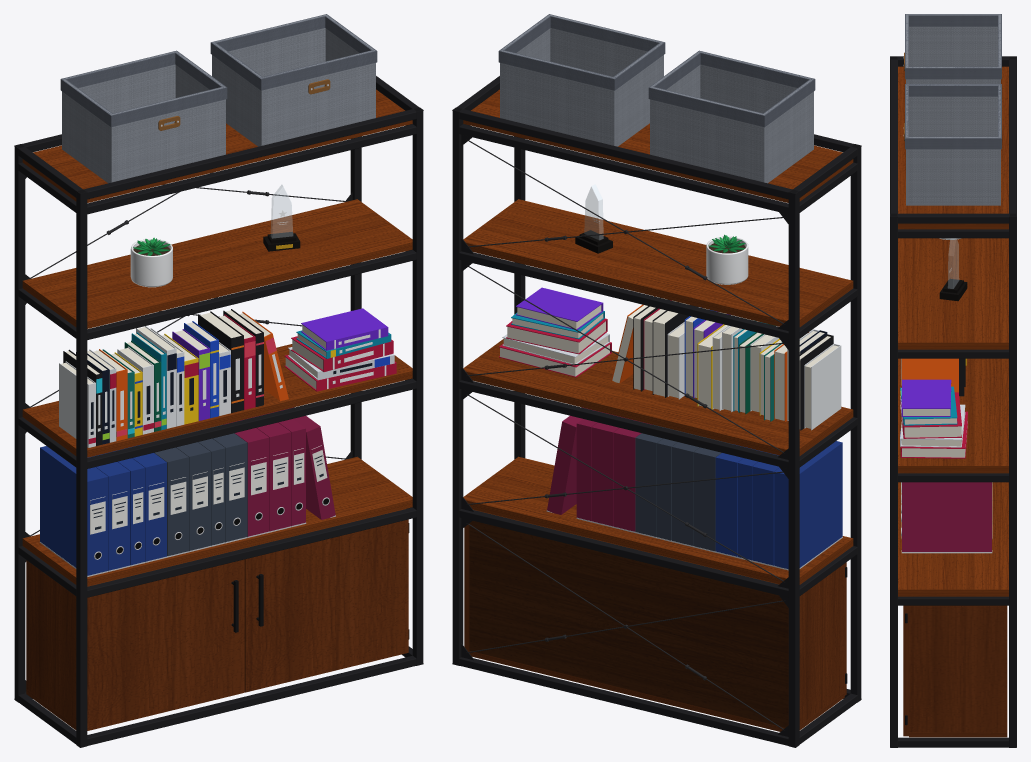
The model's file is Office_Bookshelf_Cabinet.glb.
The picture shows the model from 3 angles, left to right: view 1: azimuth 30°, elevation 25°; view 2: azimuth 150°, elevation 25°; view 3: azimuth 270°, elevation 25°; orthographic projection. The views are drawn at different scales.
Parts seen in each view (by area): view 1: Cover (×12), Door_R_Panel, Door_L_Panel, Shelf_3_Plank, Basket_Wall_Front (×2), Shelf_1_Plank, Post_FL, Cabinet_Side_L, Post_FR, Post_BL, Basket_Wall_Back (×2), Shelf_2_Plank (+23 smaller); view 2: Cabinet_Back, Cover (×12), Shelf_3_Plank, Basket_Wall_Back (×2), Shelf_2_Plank, Shelf_1_Plank, Pages (×10), Post_BL, Post_BR, Post_FL, Cabinet_Side_L, Basket_Wall_Front (×2) (+24 smaller); view 3: Cabinet_Side_R, Shelf_3_Plank, Basket_Wall_Left (×2), Shelf_2_Plank, Shelf_1_Plank, Cover, Basket_Wall_Right (×2), Post_FR, Post_BR, Shelf_4_Plank, Board_L (×5), Basket_Cuff_Right (×2) (+20 smaller).
Part boxes in pixels (bbox=[...]): Cover (×12): bbox=[40, 407, 335, 575]; Door_R_Panel: bbox=[244, 519, 408, 692]; Door_L_Panel: bbox=[87, 559, 244, 730]; Shelf_3_Plank: bbox=[22, 199, 412, 328]; Basket_Wall_Front (×2): bbox=[110, 50, 375, 182]; Shelf_1_Plank: bbox=[22, 456, 412, 586]; Post_FL: bbox=[76, 189, 87, 747]; Cabinet_Side_L: bbox=[26, 560, 76, 724]; Post_FR: bbox=[412, 107, 423, 665]; Post_BL: bbox=[14, 144, 25, 702]; Basket_Wall_Back (×2): bbox=[62, 14, 327, 149]; Shelf_2_Plank: bbox=[22, 344, 412, 457]; Cabinet_Back: bbox=[469, 521, 788, 727]; Cover (×12): bbox=[547, 407, 842, 569]; Shelf_3_Plank: bbox=[463, 199, 853, 326]; Basket_Wall_Back (×2): bbox=[500, 50, 765, 182]; Shelf_2_Plank: bbox=[463, 339, 853, 455]; Shelf_1_Plank: bbox=[463, 456, 853, 584]; Pages (×10): bbox=[500, 300, 807, 420]; Post_BL: bbox=[788, 189, 799, 747]; Post_BR: bbox=[452, 107, 463, 665]; Post_FL: bbox=[850, 144, 861, 702]; Cabinet_Side_L: bbox=[788, 564, 844, 724]; Basket_Wall_Front (×2): bbox=[548, 14, 813, 149]; Cabinet_Side_R: bbox=[909, 606, 1007, 732]; Shelf_3_Plank: bbox=[898, 238, 1008, 349]; Basket_Wall_Left (×2): bbox=[908, 14, 998, 136]; Shelf_2_Plank: bbox=[898, 358, 1008, 473]; Shelf_1_Plank: bbox=[898, 482, 1008, 596]; Cover: bbox=[902, 482, 991, 551]; Basket_Wall_Right (×2): bbox=[908, 67, 998, 205]; Post_FR: bbox=[890, 213, 897, 747]; Post_BR: bbox=[1009, 213, 1016, 747]; Shelf_4_Plank: bbox=[898, 66, 1008, 229]; Board_L (×5): bbox=[900, 379, 967, 448]; Basket_Cuff_Right (×2): bbox=[908, 66, 998, 149].
Bounding box in the file's own units: 1.2 × 2.06 × 0.4.
Materials: 50 (6 with a texture image).
